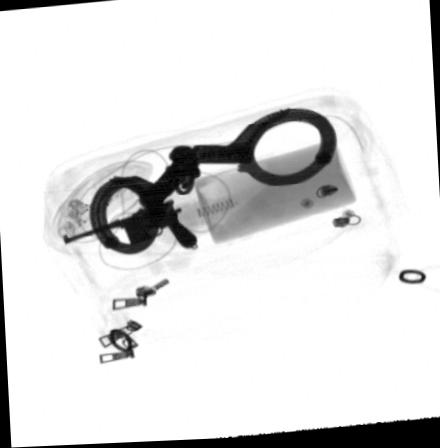Gun: (60, 201, 199, 251)
HandCuffs: (90, 109, 338, 256)
